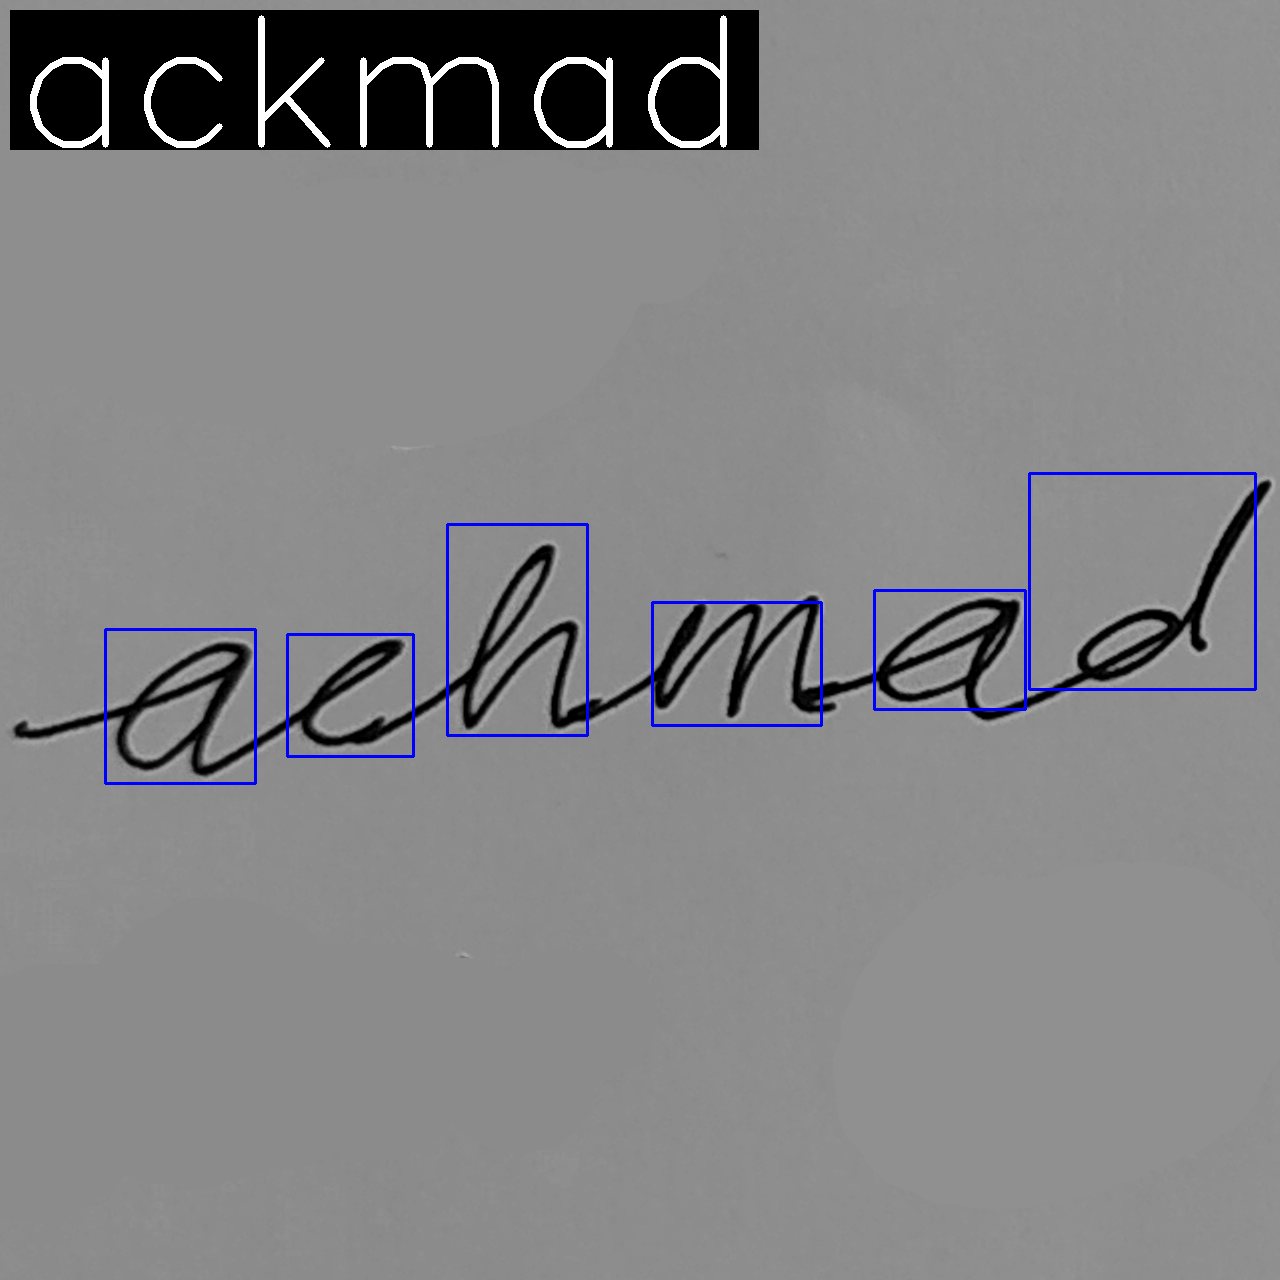a: (108, 636, 258, 779), (873, 593, 1023, 720)
c: (297, 633, 410, 751)
d: (1073, 478, 1273, 685)
h: (456, 540, 583, 735)
m: (648, 588, 824, 726)
